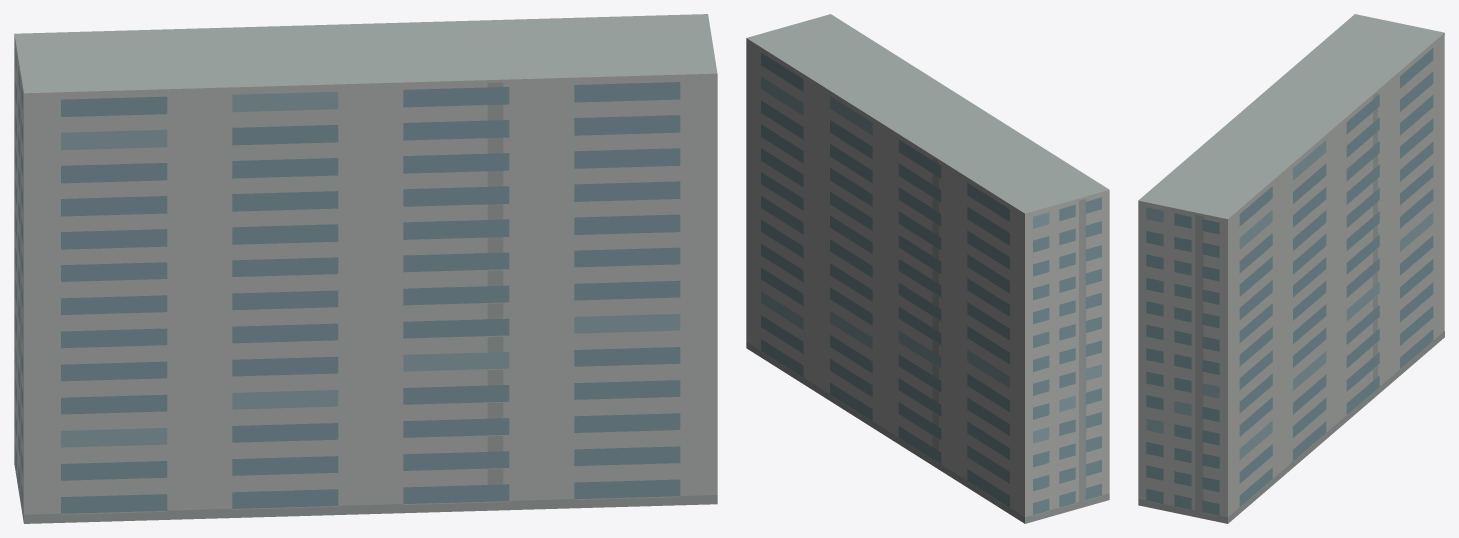
The model's file is residential-8887bea9-8324-463c-b5bb-7cd1878aaa92.glb.
The picture shows the model from 3 angles, left to right: view 1: azimuth 30°, elevation 25°; view 2: azimuth 150°, elevation 25°; view 3: azimuth 270°, elevation 25°; orthographic projection. The views are drawn at different scales.
Parts seen in each view (by area): view 1: residential-8887bea9-8324-463c-b5bb-7cd1878aaa92.tmp; view 2: residential-8887bea9-8324-463c-b5bb-7cd1878aaa92.tmp; view 3: residential-8887bea9-8324-463c-b5bb-7cd1878aaa92.tmp.
Part boxes in pixels (left/top/right/bottom): residential-8887bea9-8324-463c-b5bb-7cd1878aaa92.tmp: left=14, top=14, right=717, bottom=523; residential-8887bea9-8324-463c-b5bb-7cd1878aaa92.tmp: left=746, top=14, right=1109, bottom=523; residential-8887bea9-8324-463c-b5bb-7cd1878aaa92.tmp: left=1138, top=14, right=1444, bottom=523.
Bounding box in the file's own units: 52 × 36 × 32.84.
